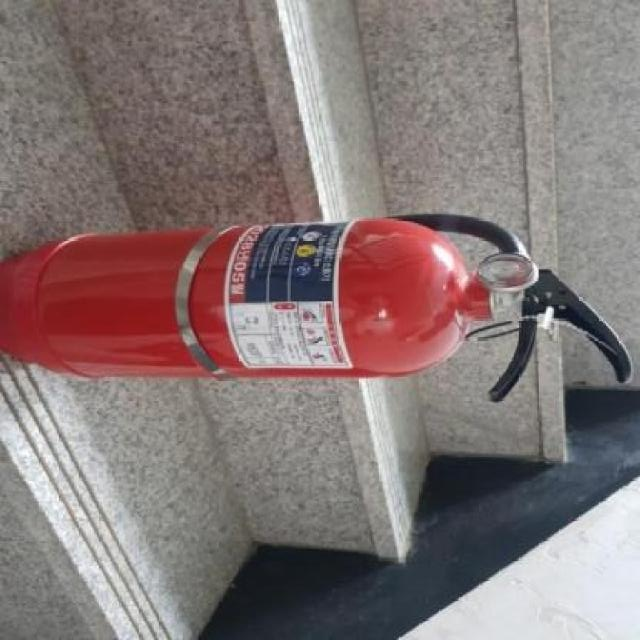fire extinguisher: (0, 214, 634, 403)
